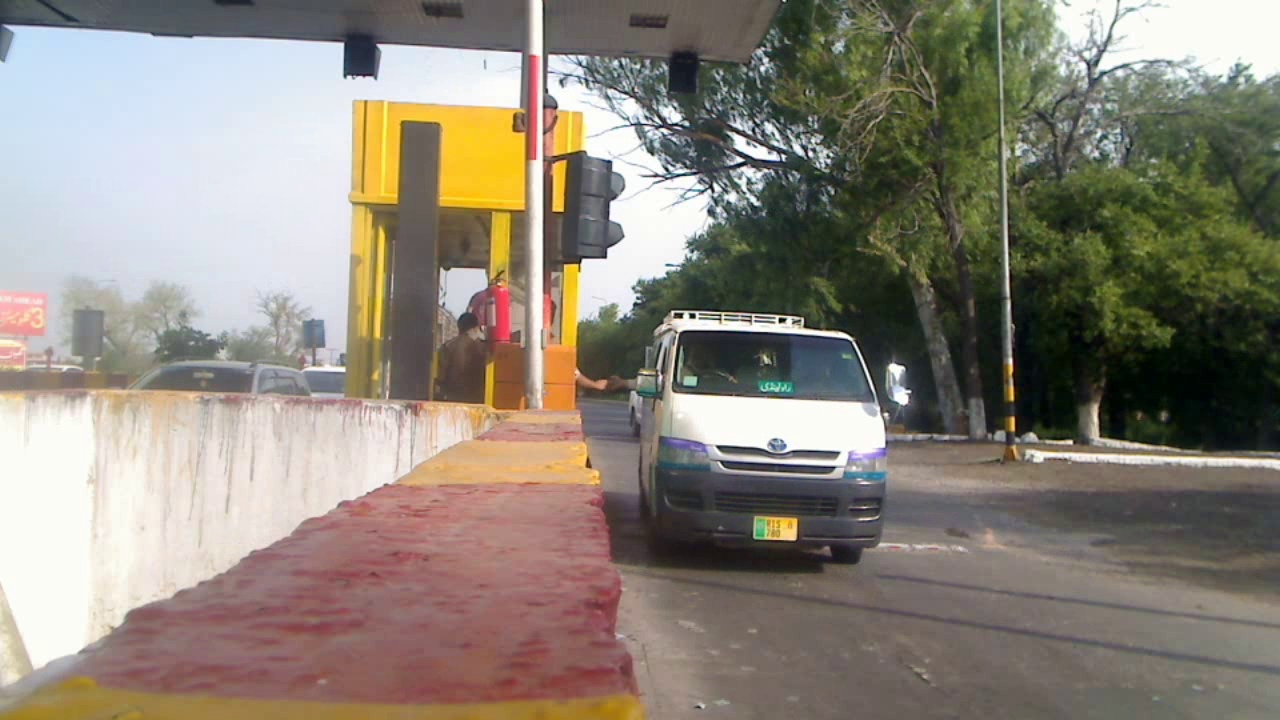Number Plate (Car): (756, 516, 797, 539)
